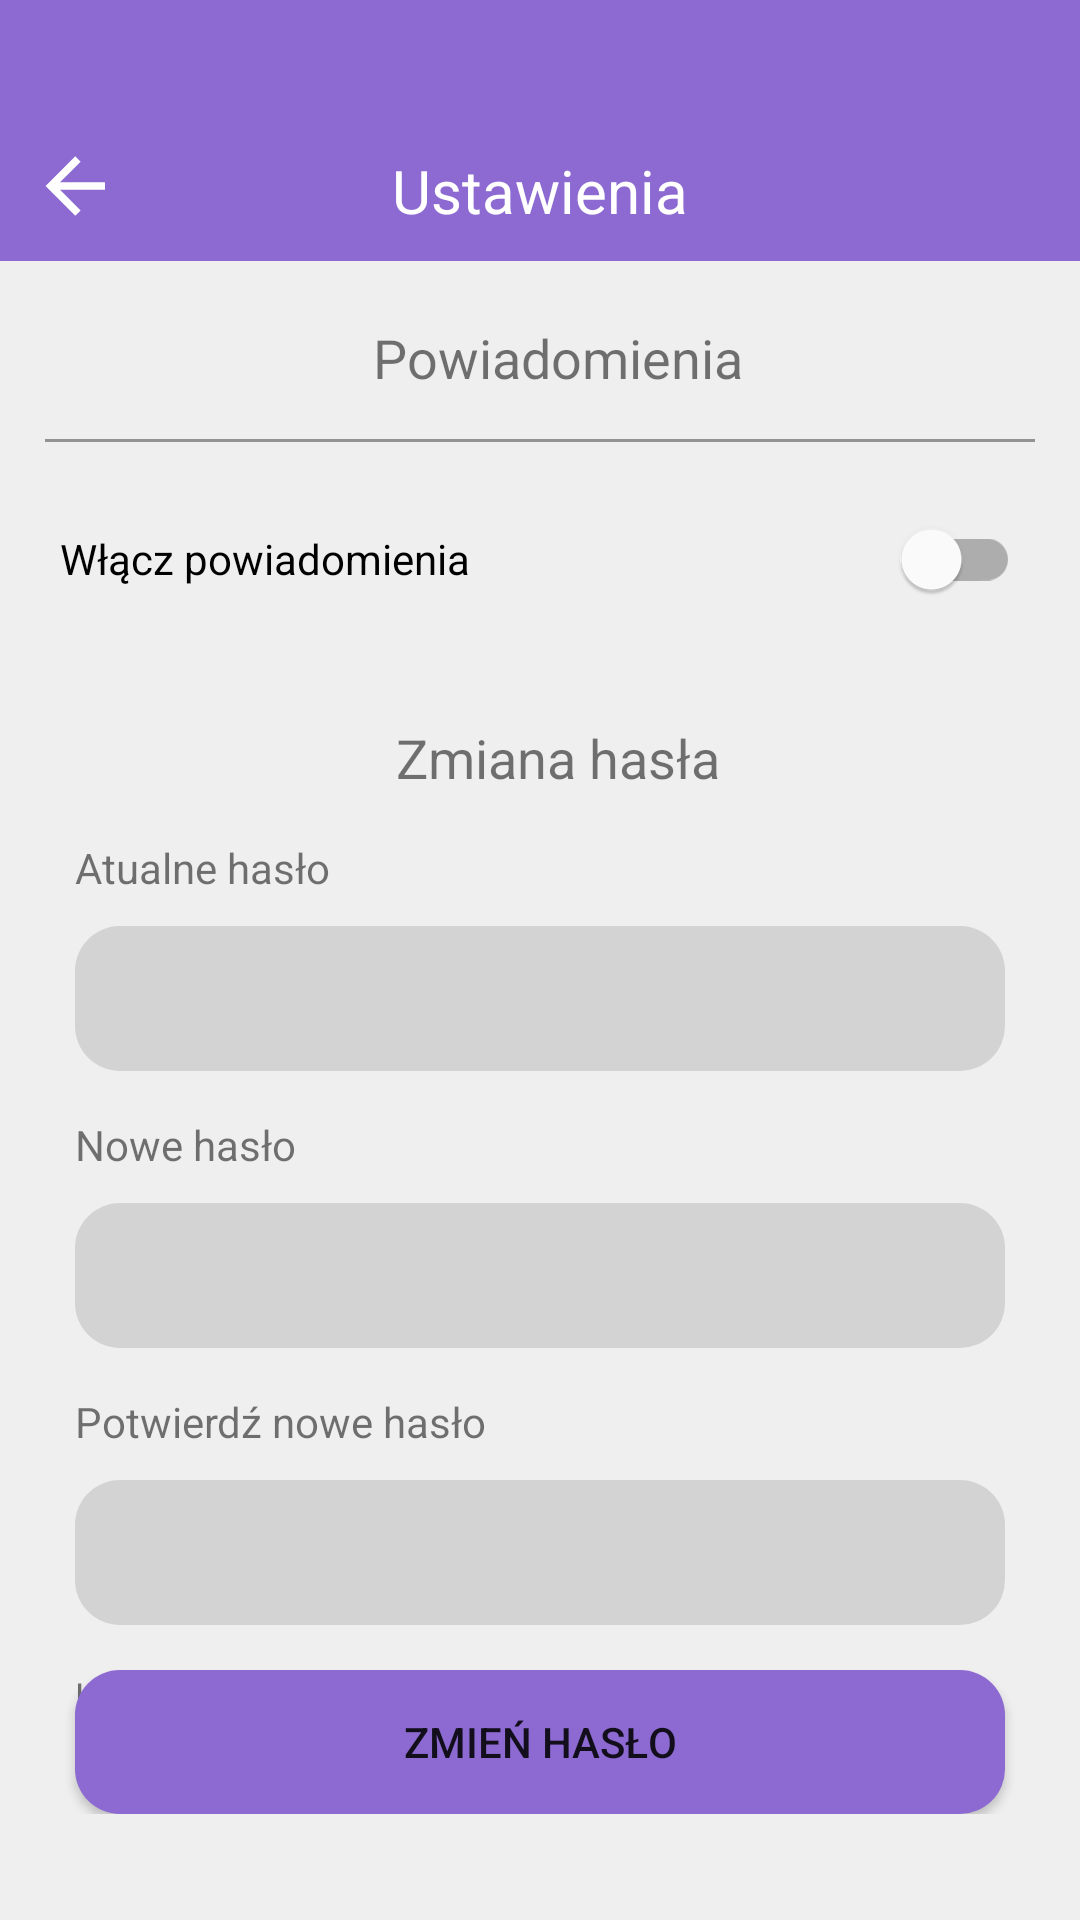

Icon click points for this 1080×1920 phone screenshot, format (x=x, y=y):
arrow left: (x=75, y=186)
